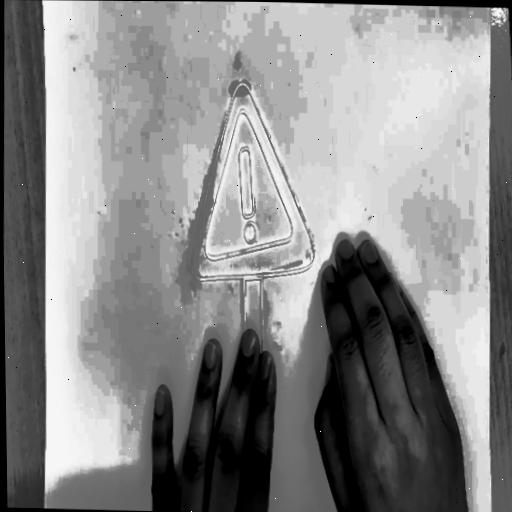signboard: (180, 71, 326, 416)
